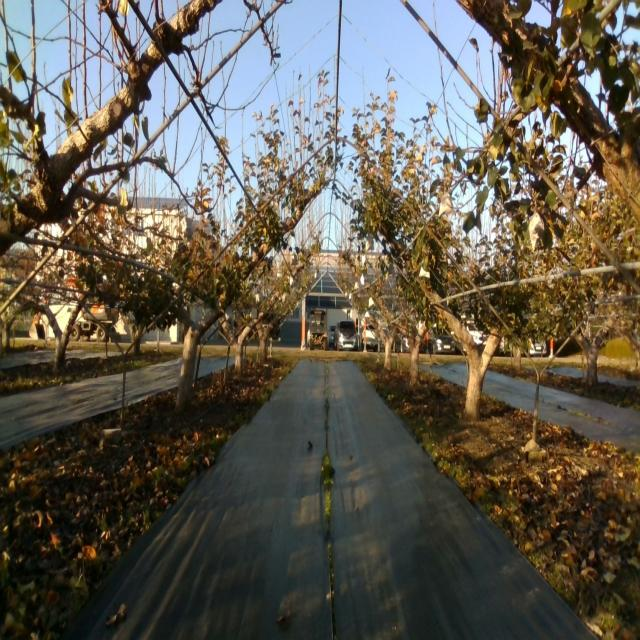pearbags: (528, 211, 545, 249), (176, 212, 194, 247), (438, 192, 456, 218)
